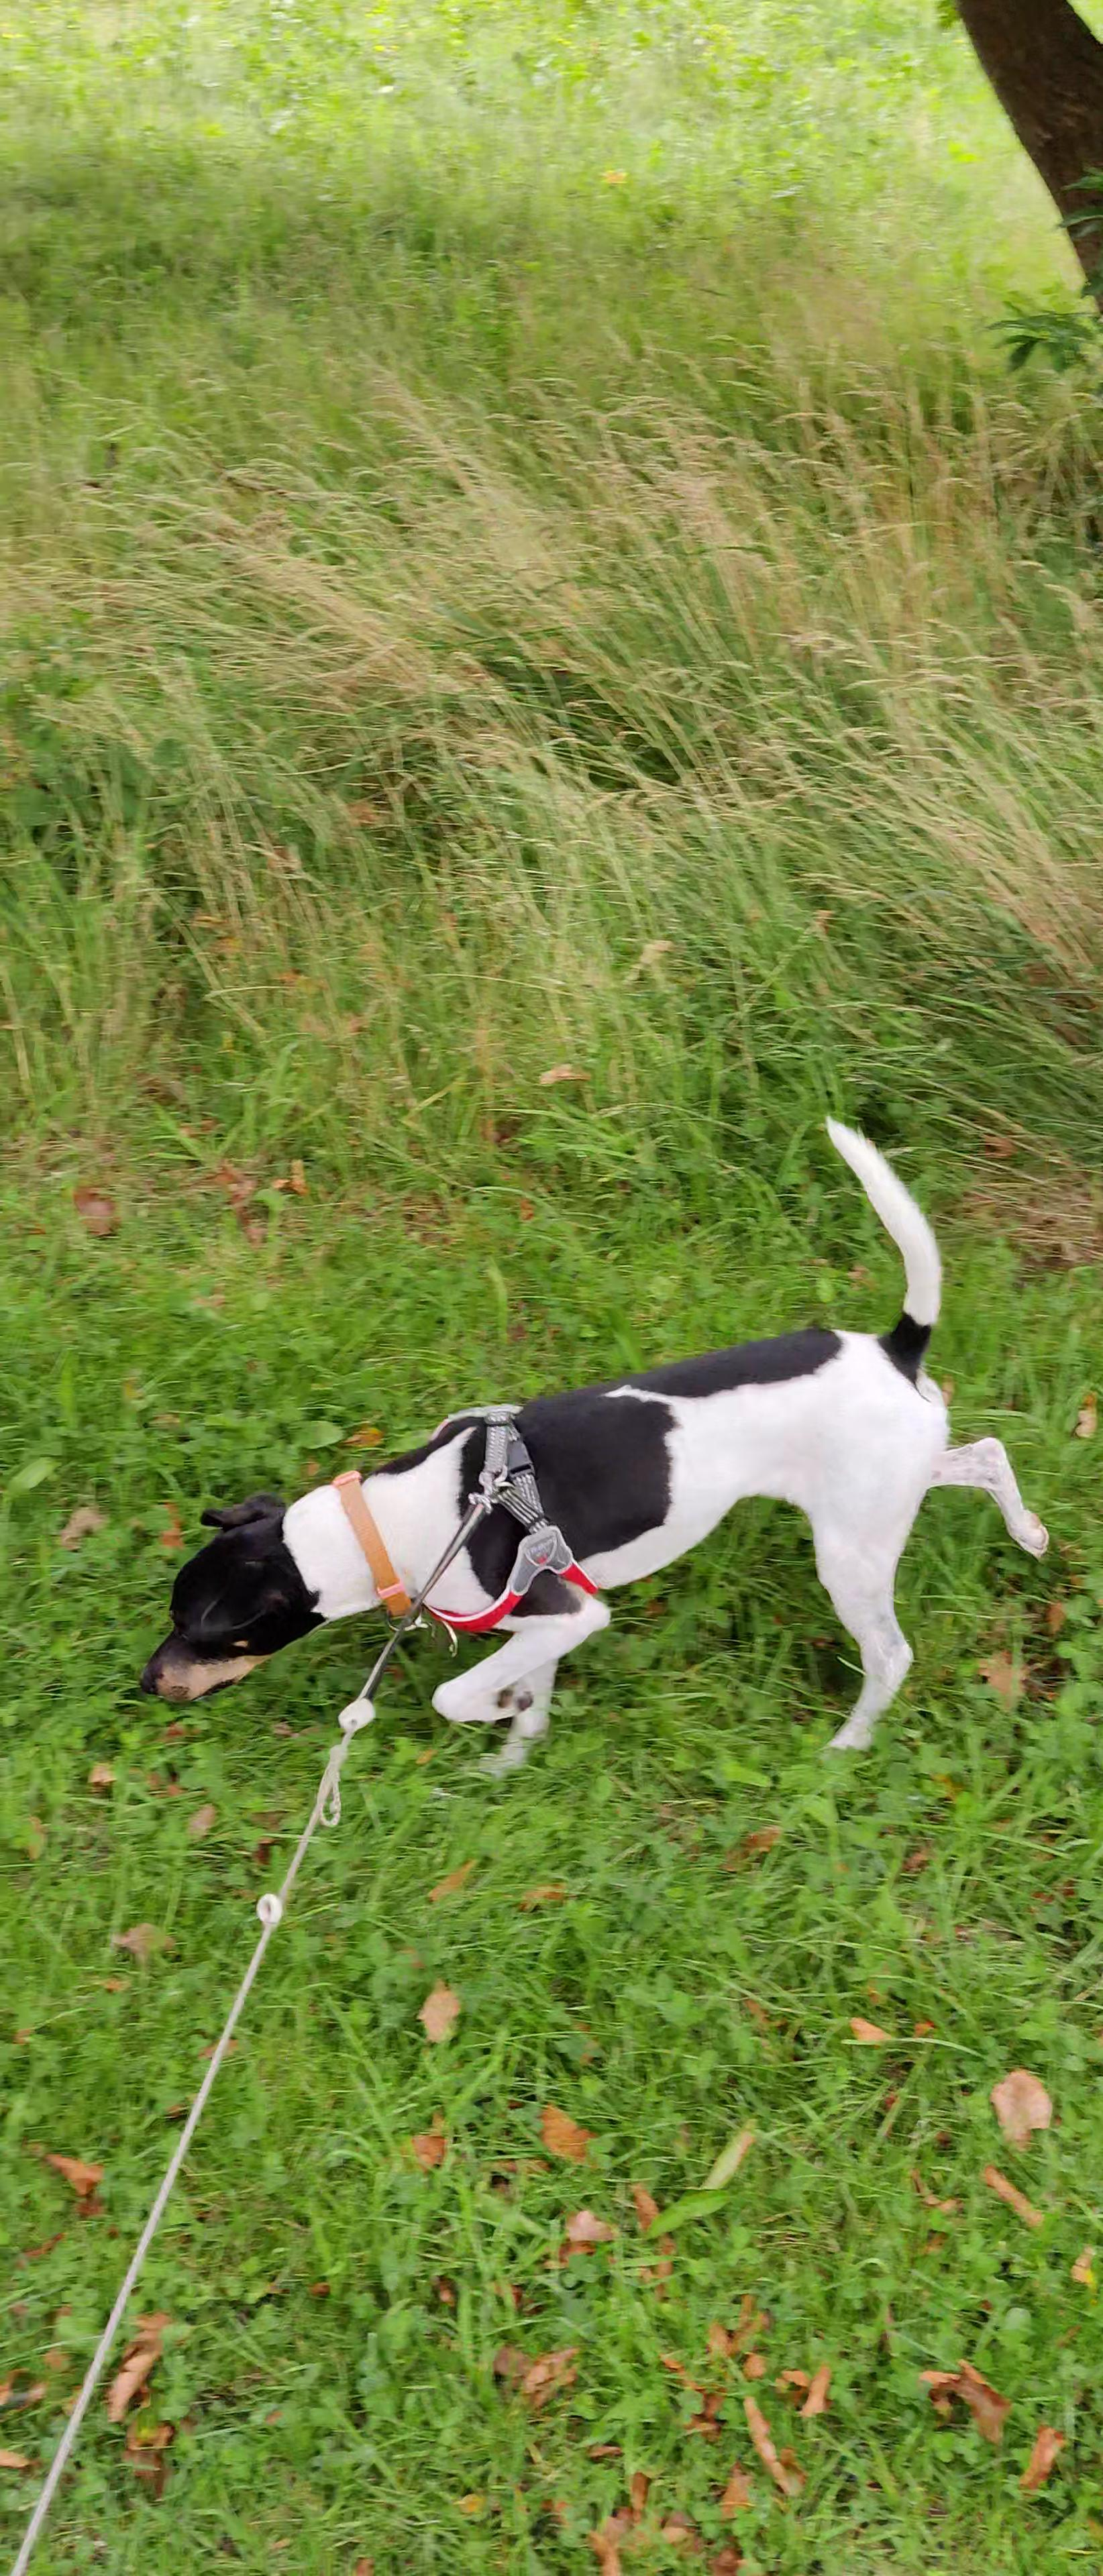Dog: (128, 1076, 1068, 1802)
